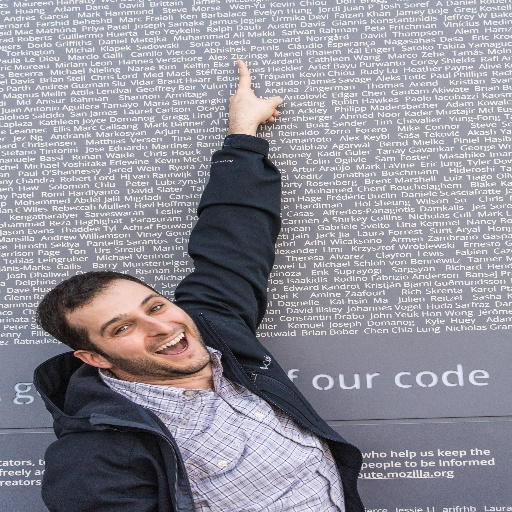hand: (218, 63, 292, 139)
